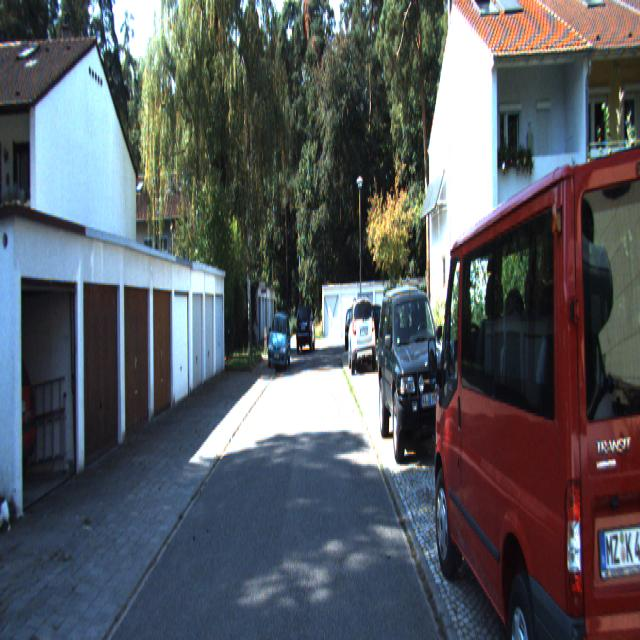Car: (376, 273, 453, 468), (346, 295, 375, 373), (268, 314, 290, 374), (296, 302, 315, 349)
DontCare: (318, 271, 348, 374), (18, 331, 37, 487)
Van: (430, 93, 640, 638)
